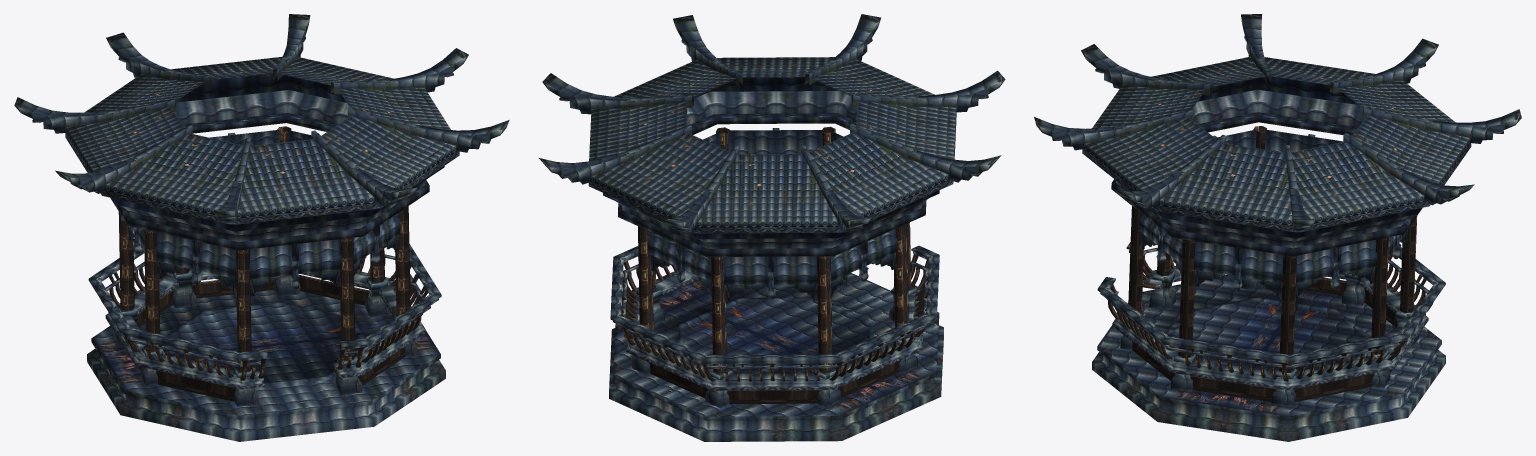
Rendered from S2_Build_XSC021_1.FBX.
3 views of the same model, side by side, from view 1: azimuth 30°, elevation 25°; view 2: azimuth 150°, elevation 25°; view 3: azimuth 270°, elevation 25° (orthographic). The views are drawn at different scales.
Parts seen in each view (by area): view 1: S2_Build_XSC021_1; view 2: S2_Build_XSC021_1; view 3: S2_Build_XSC021_1.
Boxes of the visible parts, <box> form: S2_Build_XSC021_1: <box>14,14,509,441</box>; S2_Build_XSC021_1: <box>539,14,1005,441</box>; S2_Build_XSC021_1: <box>1034,14,1521,441</box>.
Size of the model in its own units: 778 by 779 by 468.
